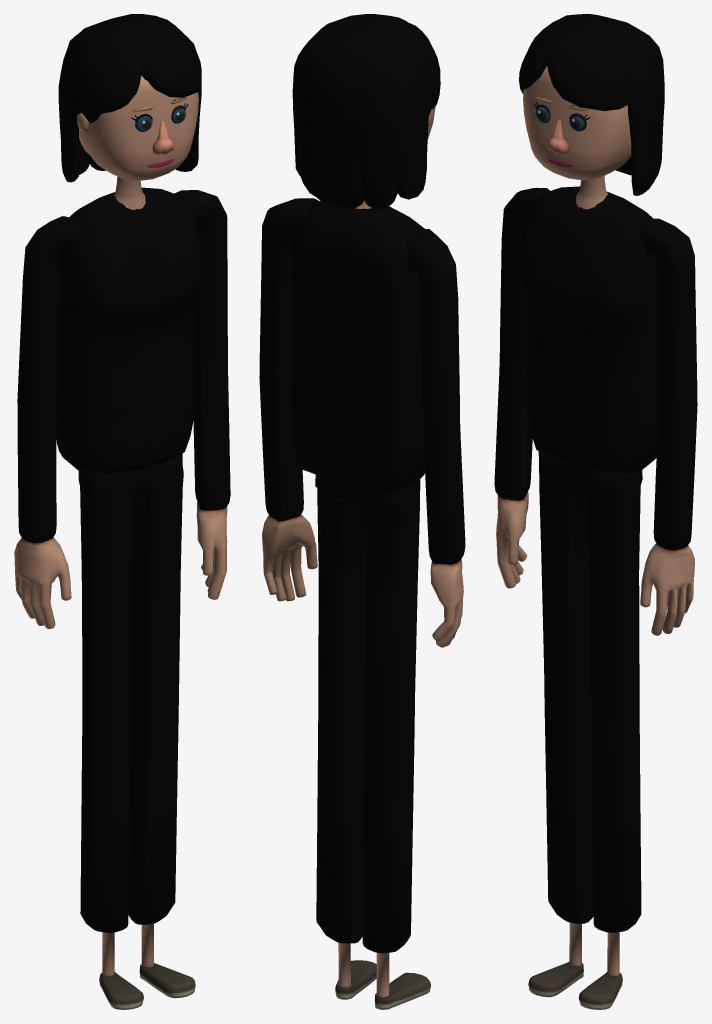
The model's file is rubenoid3.obj.
3 renders of one model, left to right at view 1: azimuth 30°, elevation 25°; view 2: azimuth 150°, elevation 25°; view 3: azimuth 330°, elevation 25°, orthographic.
Visible parts, largest first — view 1: WholeBody, Hair, DetachedHead; view 2: WholeBody, Hair; view 3: WholeBody, Hair, DetachedHead.
Boxes of the visible parts, x1=… form: WholeBody: x1=14, y1=187, x2=230, y2=1009; Hair: x1=58, y1=14, x2=201, y2=182; DetachedHead: x1=77, y1=75, x2=198, y2=209; WholeBody: x1=259, y1=198, x2=465, y2=1009; Hair: x1=292, y1=14, x2=440, y2=209; WholeBody: x1=494, y1=186, x2=697, y2=1009; Hair: x1=519, y1=14, x2=664, y2=195; DetachedHead: x1=523, y1=66, x2=631, y2=209.
Size of the model in its own units: 1 by 4.58 by 0.5927.
6 materials, 6 textured.
